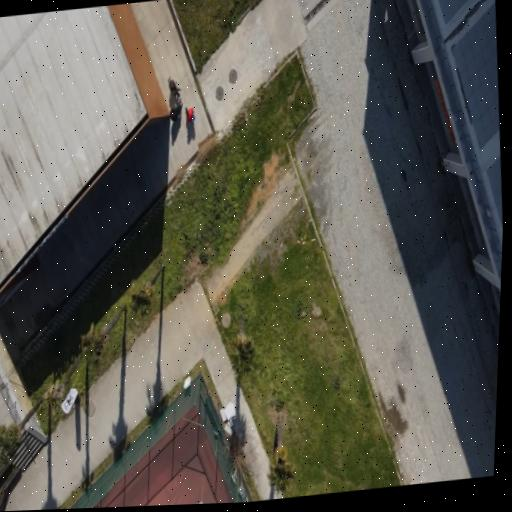person: (167, 77, 179, 99), (169, 102, 182, 120), (185, 107, 193, 123)
